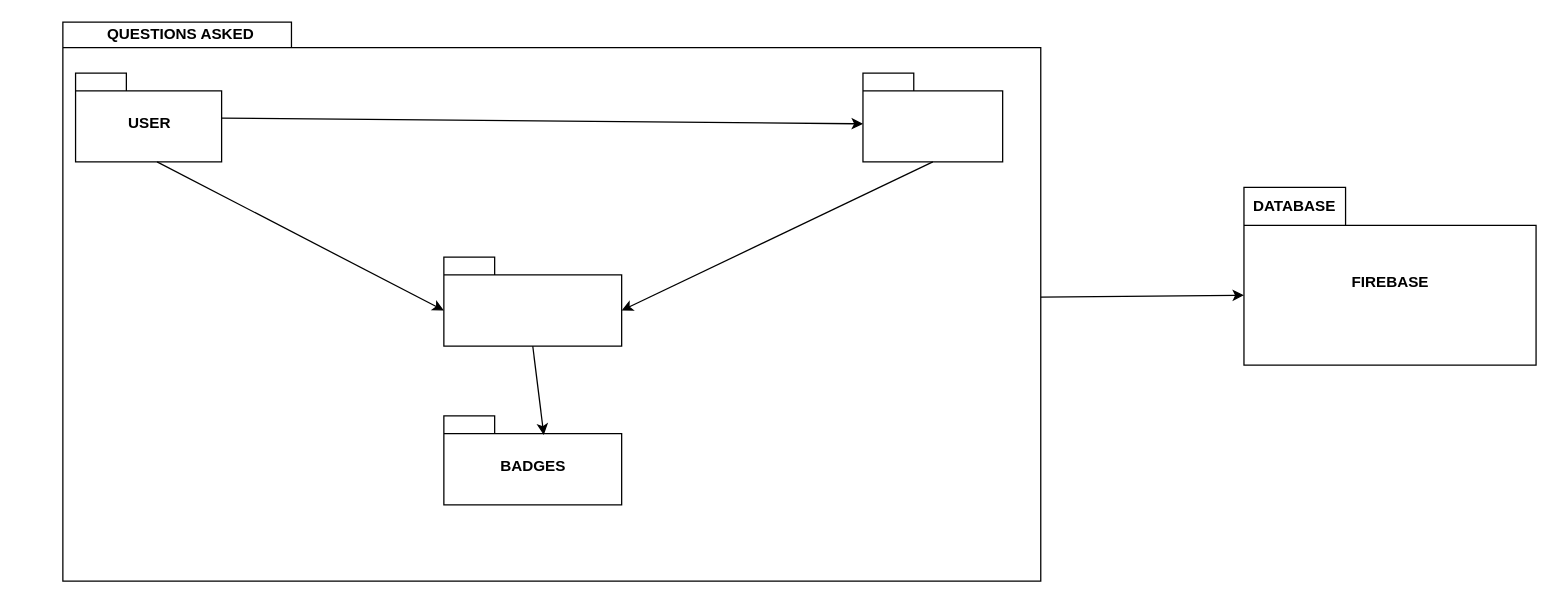
The diagram is 1558 pixels wide and 603 high, and some of its shapes have lost their labels. Here are the shapes that lost their labels. From the top down, the centre of each, then its label:
At pixel 932 117: "CATEGORY".
At pixel 532 301: "QUESTIONS".
